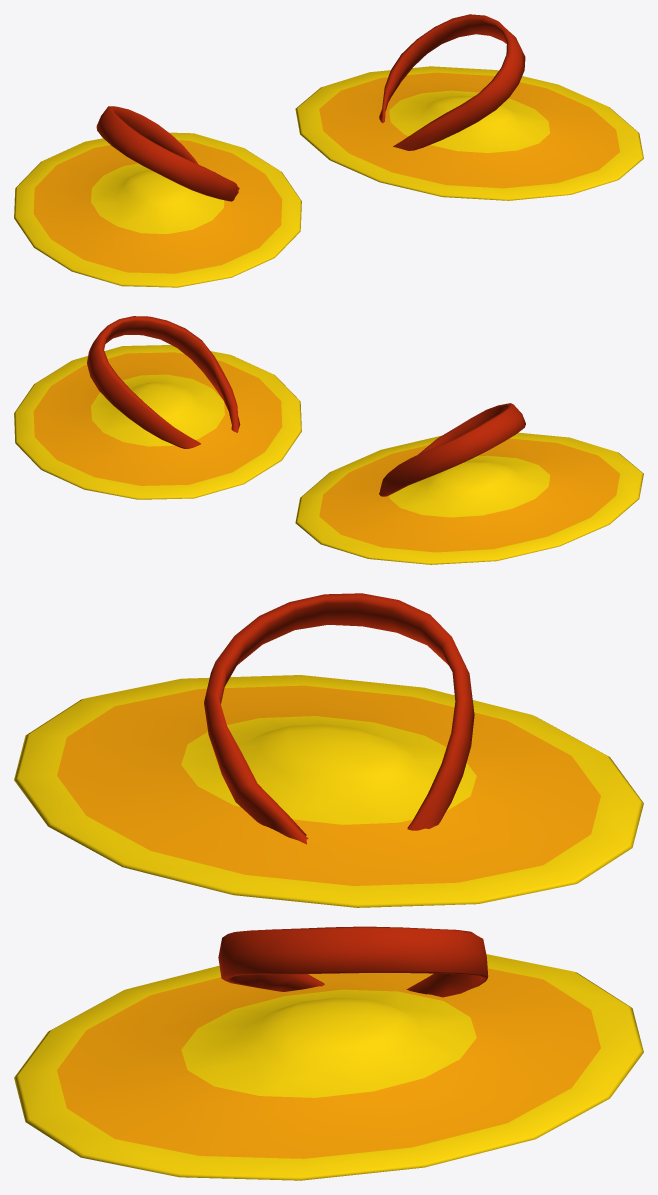
3 views of the same model, one above another, from view 1: azimuth 30°, elevation 25°; view 2: azimuth 150°, elevation 25°; view 3: azimuth 270°, elevation 25° (orthographic). The views are drawn at different scales.
Visible parts, largest first — view 1: Object_2; view 2: Object_2; view 3: Object_2.
Boxes of the visible parts, <box> form: Object_2: <box>14,14,643,287</box>; Object_2: <box>14,316,643,564</box>; Object_2: <box>14,593,643,1180</box>.
Bounding box in the file's own units: 0.6337 × 0.1027 × 0.3342.
1 material, 1 textured.
